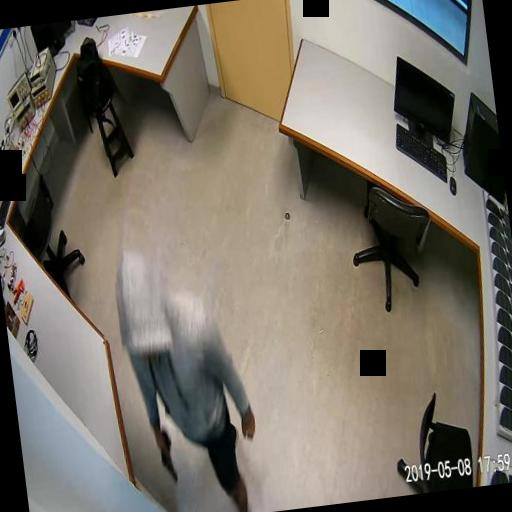Handgun: (156, 426, 178, 482)
